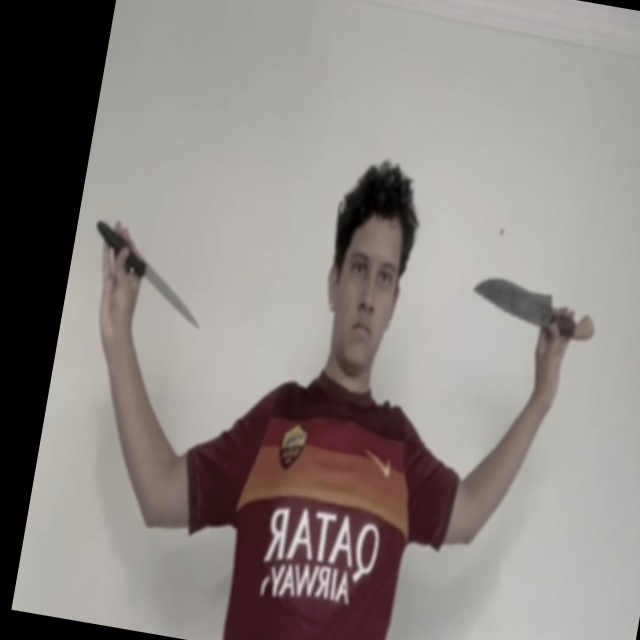Sharp-Object: (136, 259, 210, 329), (469, 275, 557, 328)
